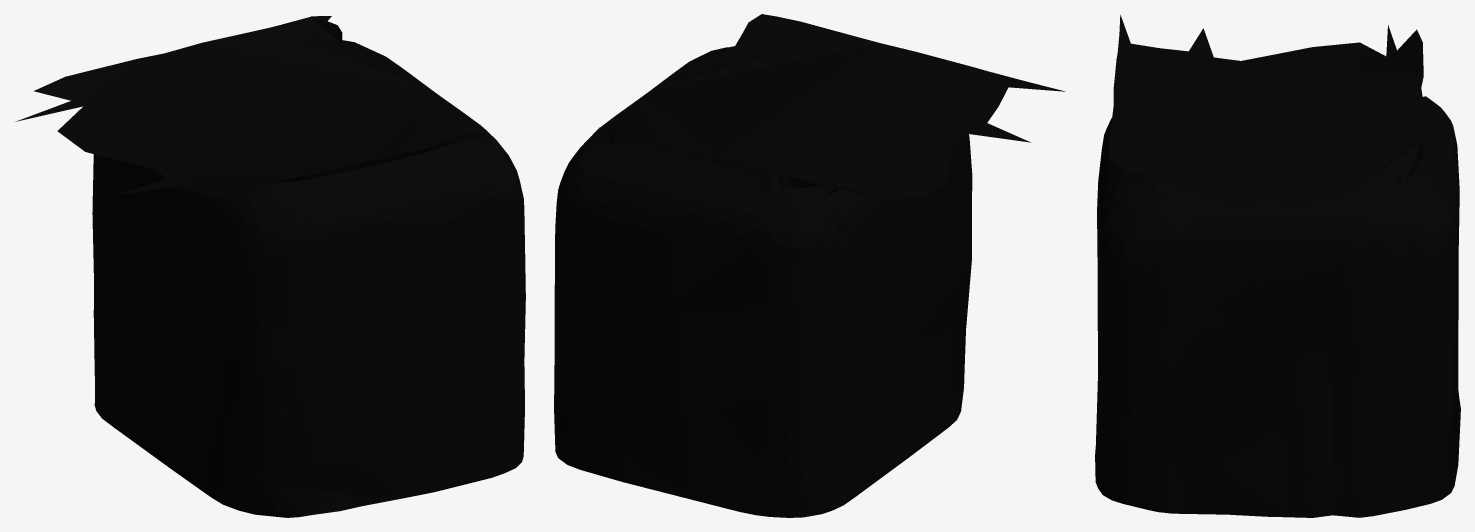
The model's file is LeftUpperArm.glb.
3 renders of one model, left to right at view 1: azimuth 30°, elevation 25°; view 2: azimuth 150°, elevation 25°; view 3: azimuth 270°, elevation 25°, orthographic. The views are drawn at different scales.
Visible parts, largest first — view 1: LeftUpperArm; view 2: LeftUpperArm; view 3: LeftUpperArm.
Boxes of the visible parts, x1,y1,x2,y2 form: LeftUpperArm: (15, 16, 525, 517); LeftUpperArm: (554, 14, 1065, 517); LeftUpperArm: (1095, 15, 1460, 517).
Bounding box in the file's own units: 1.45 × 1.15 × 1.19.
Materials: 1 (1 with a texture image).
